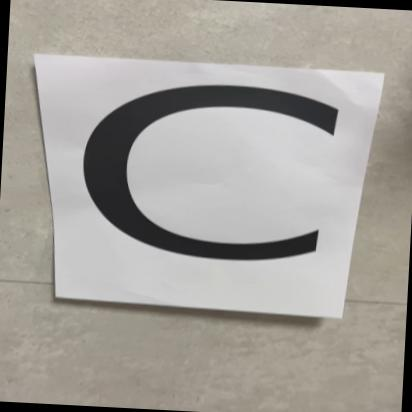seat: (11, 52, 396, 324)
